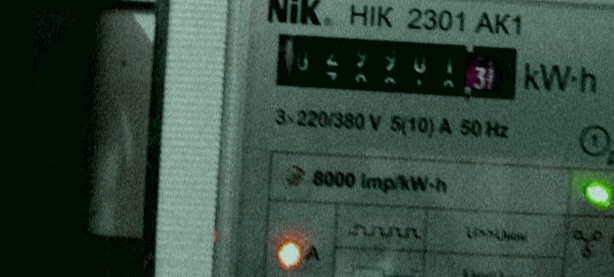0: (292, 44, 312, 72), (411, 45, 429, 75)
1: (442, 46, 457, 75)
2: (323, 40, 342, 68)
3: (471, 63, 489, 90)
9: (353, 42, 370, 70), (383, 45, 398, 72)
screen: (266, 22, 530, 111)
